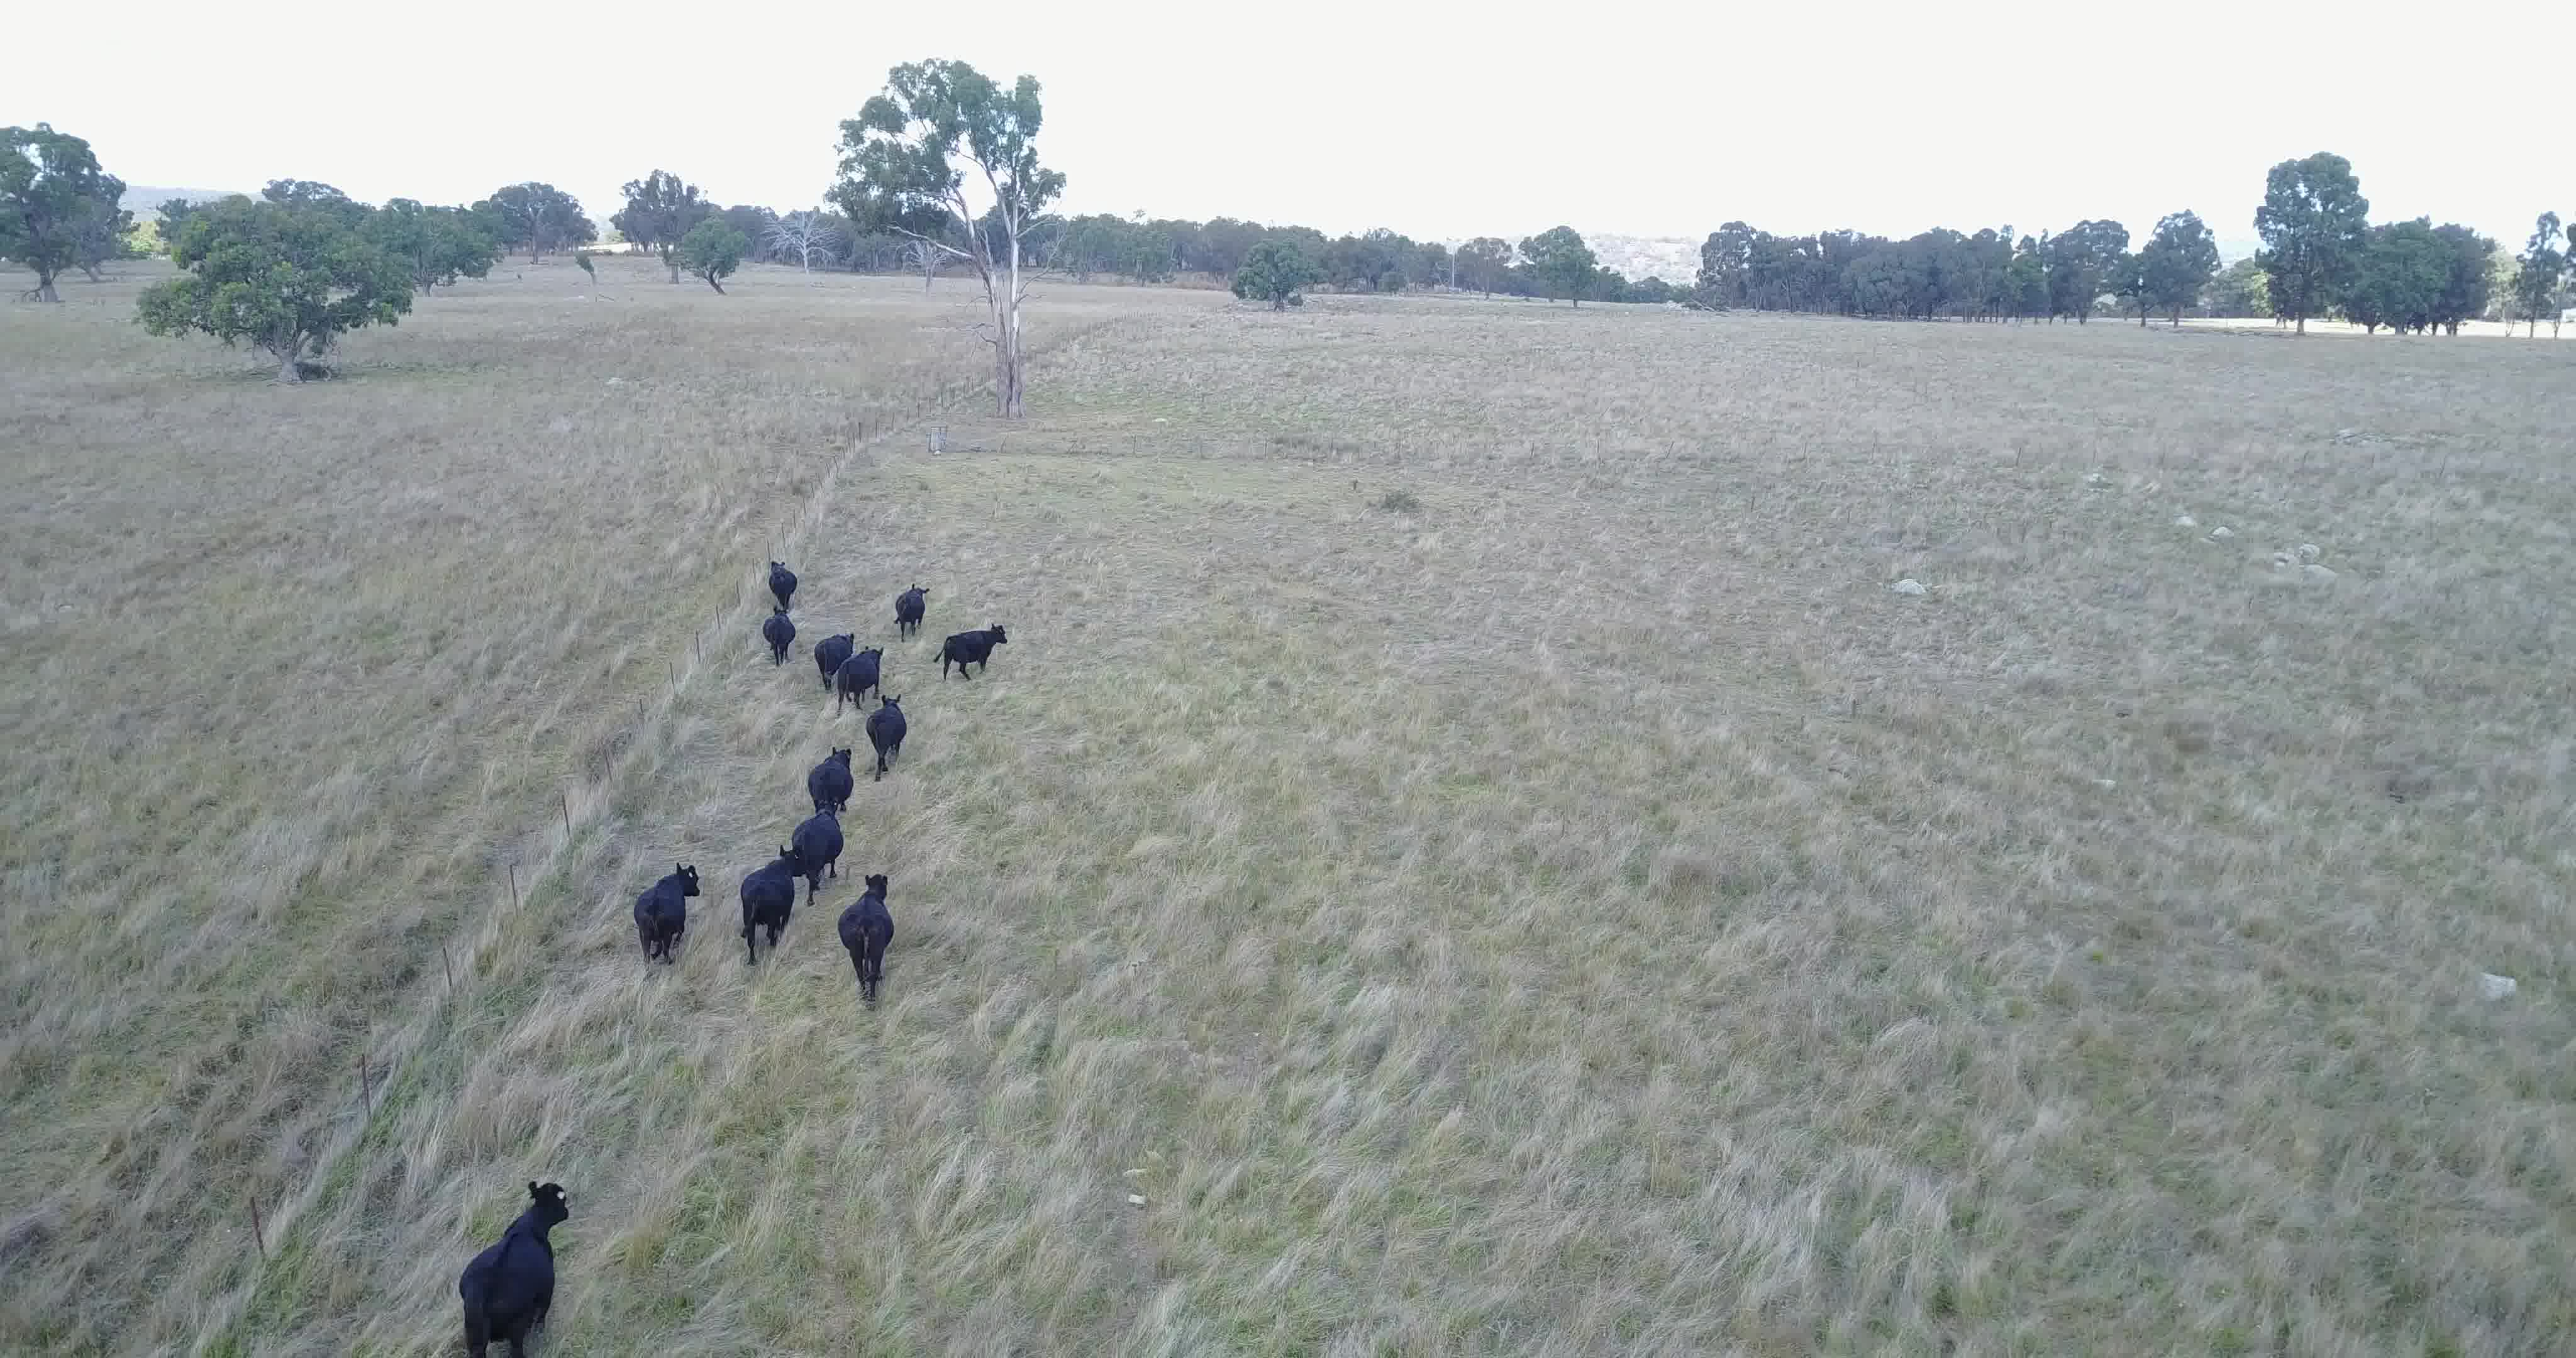cattle: (455, 1174, 579, 1355), (733, 847, 806, 971), (837, 871, 898, 1016), (630, 860, 704, 973), (789, 796, 842, 908), (932, 620, 1012, 688), (802, 741, 862, 821), (864, 692, 908, 785), (835, 642, 883, 717), (755, 603, 797, 671), (893, 583, 930, 651), (813, 624, 855, 682), (765, 559, 801, 613)
